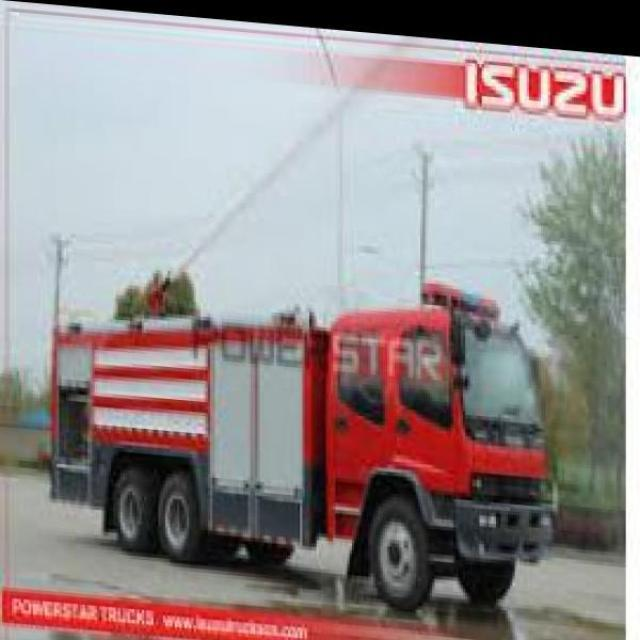emergency: (45, 266, 559, 610)
